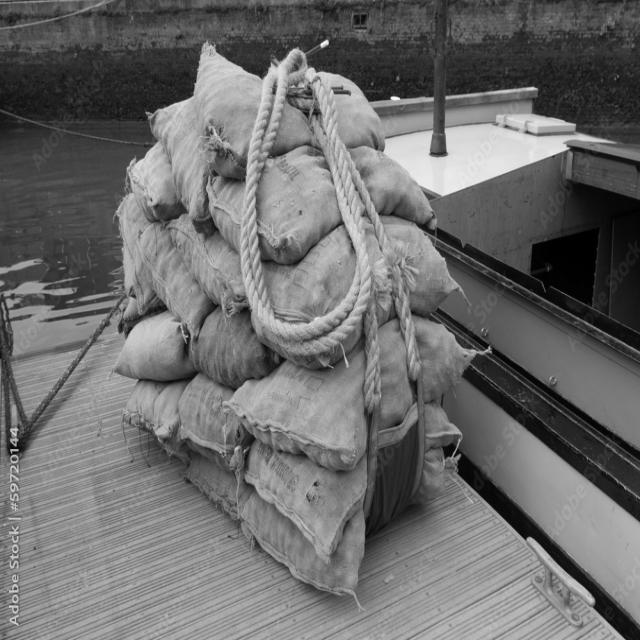sack: (222, 312, 478, 473), (262, 214, 458, 368), (205, 144, 438, 262), (192, 41, 385, 180), (243, 438, 368, 562), (240, 490, 366, 596), (137, 220, 211, 338), (167, 212, 246, 318), (146, 96, 209, 216), (176, 371, 248, 466), (194, 306, 272, 388), (111, 310, 190, 380), (183, 452, 250, 515), (126, 140, 178, 221), (120, 379, 184, 439)
